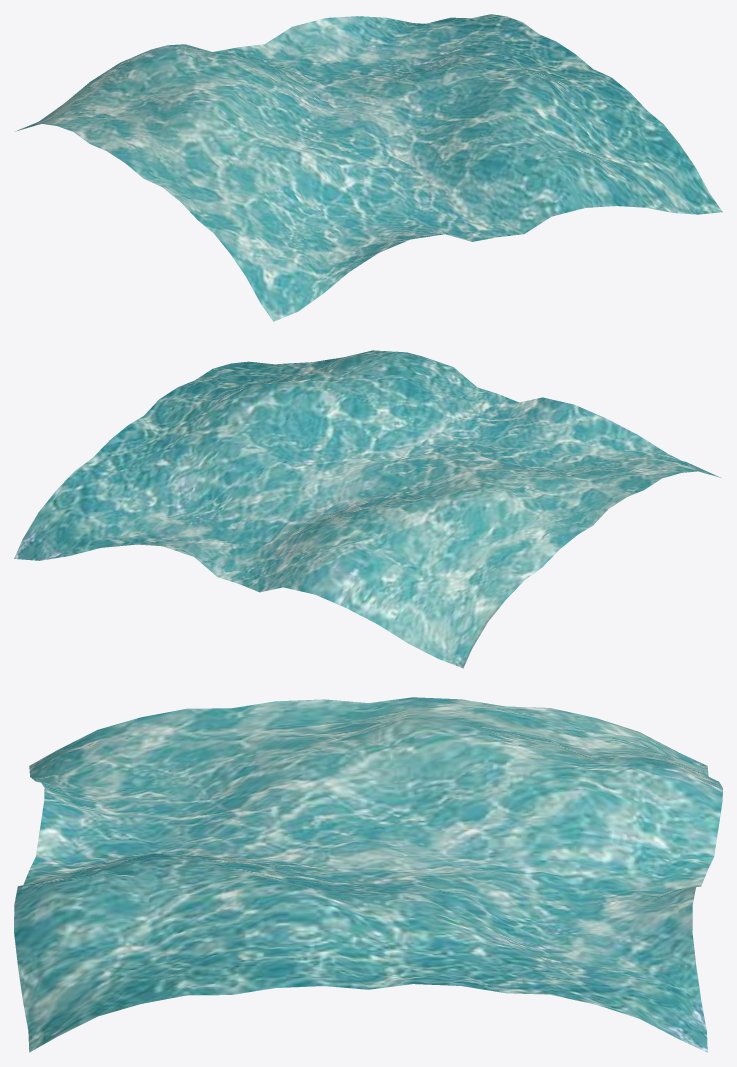
The model's file is water_000131.obj.
The picture shows the model from 3 angles, top to bottom: view 1: azimuth 30°, elevation 25°; view 2: azimuth 150°, elevation 25°; view 3: azimuth 270°, elevation 25°; orthographic projection. The views are drawn at different scales.
Visible parts, largest first — view 1: Plan.003_Plan.001; view 2: Plan.003_Plan.001; view 3: Plan.003_Plan.001.
Part boxes in pixels (bbox=[...]): Plan.003_Plan.001: bbox=[15, 14, 722, 321]; Plan.003_Plan.001: bbox=[14, 350, 720, 668]; Plan.003_Plan.001: bbox=[14, 697, 722, 1052].
Size of the model in its own units: 60931 by 9555 by 63049.
1 material, 1 textured.
